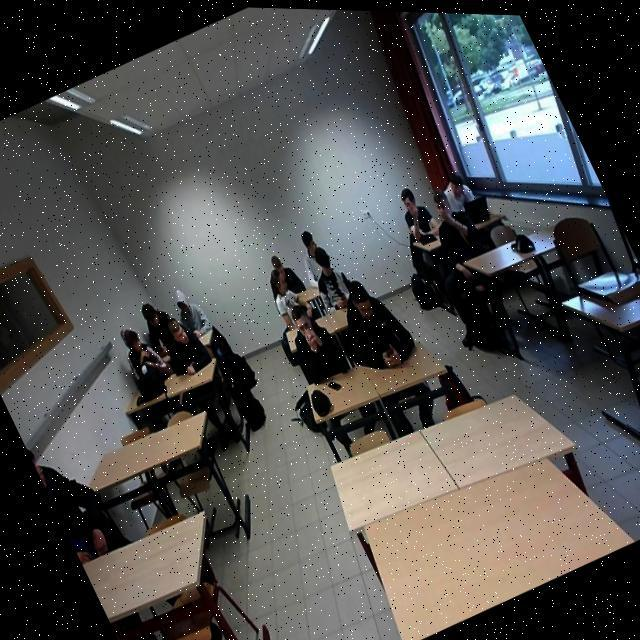phone_use: (346, 280, 413, 367), (300, 230, 348, 307), (175, 288, 211, 344), (141, 303, 172, 358)
